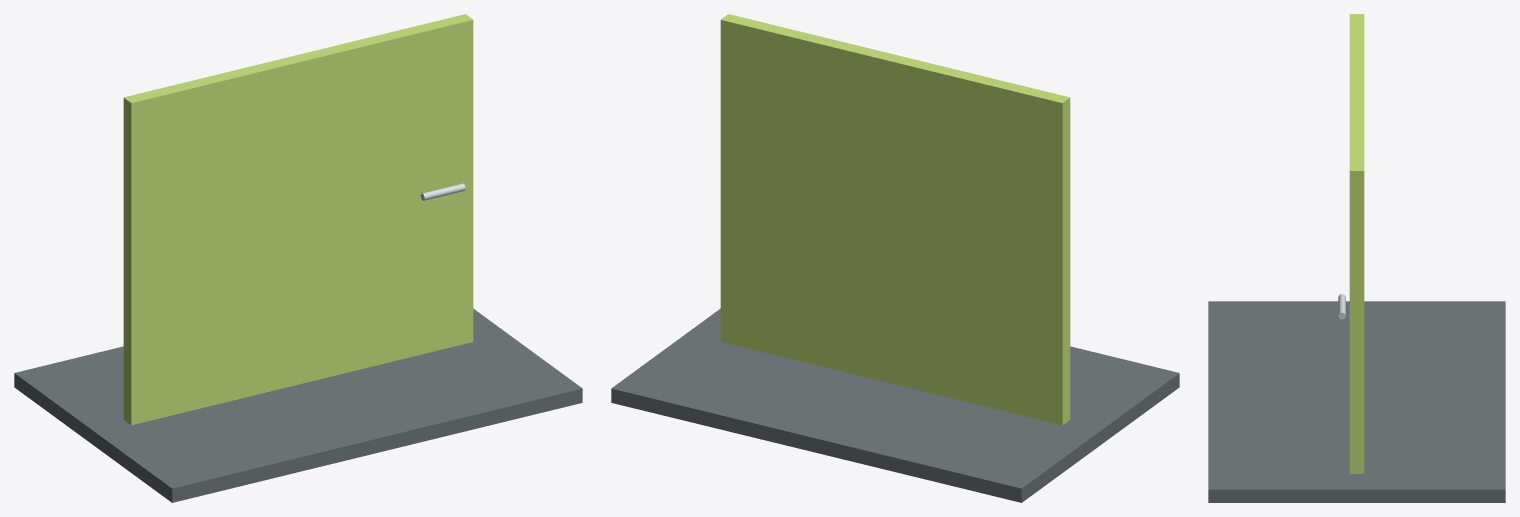
File: mesh-collider.glb
The picture shows the model from 3 angles, left to right: view 1: azimuth 30°, elevation 25°; view 2: azimuth 150°, elevation 25°; view 3: azimuth 270°, elevation 25°; orthographic projection. The views are drawn at different scales.
Parts seen in each view (by area): view 1: /Cabinet/Door/Visual, /Cabinet/Base/Visual; view 2: /Cabinet/Door/Visual, /Cabinet/Base/Visual; view 3: /Cabinet/Base/Visual, /Cabinet/Door/Visual.
Part boxes in pixels (x1,y1,x2,y2): /Cabinet/Door/Visual: [123, 14, 473, 425]; /Cabinet/Base/Visual: [14, 308, 582, 502]; /Cabinet/Door/Visual: [720, 14, 1070, 425]; /Cabinet/Base/Visual: [611, 308, 1179, 502]; /Cabinet/Base/Visual: [1208, 301, 1505, 502]; /Cabinet/Door/Visual: [1349, 14, 1364, 473].
Size of the model in its own units: 1.2 by 0.94 by 0.8.
